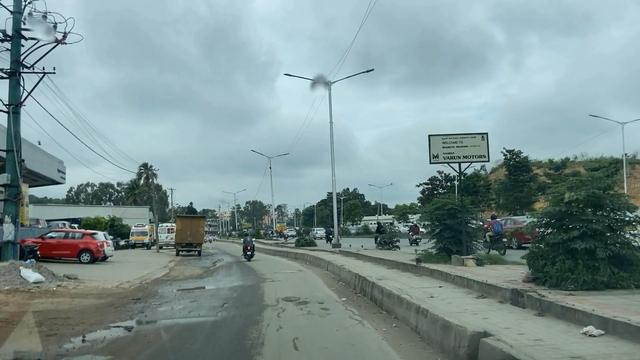RoadDamages: (272, 290, 337, 321), (284, 333, 320, 351)
